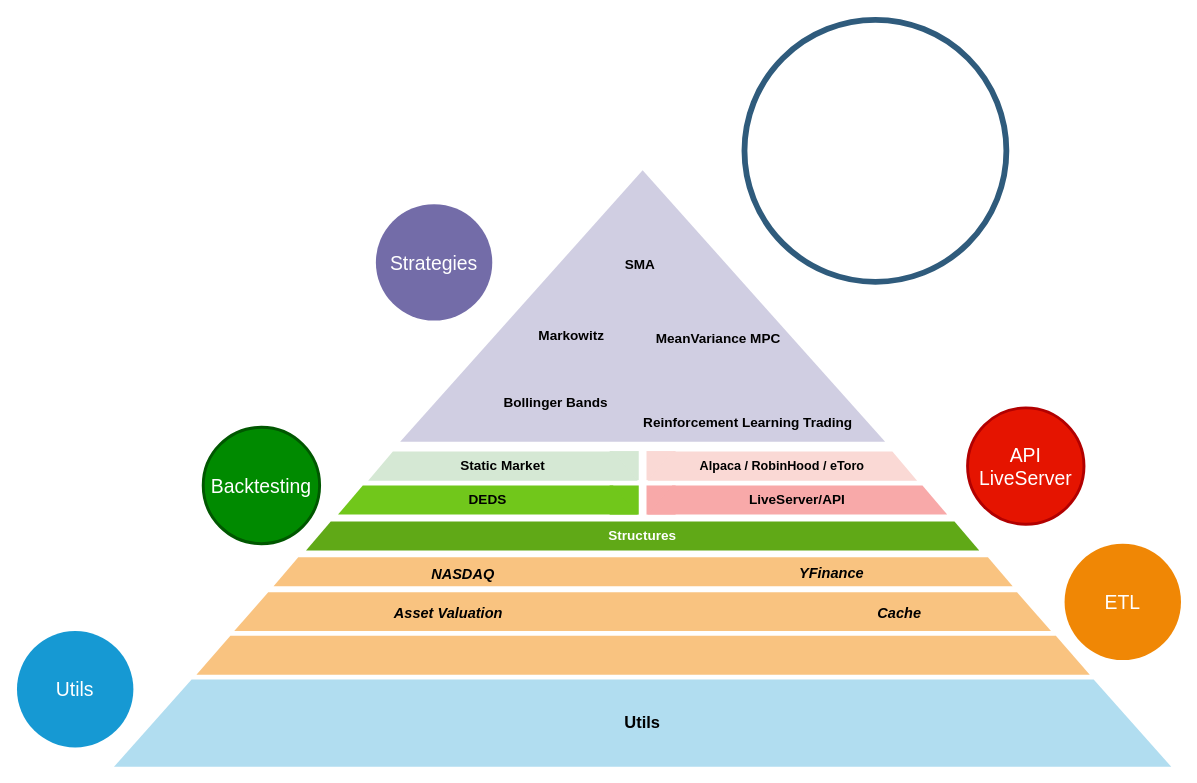
The diagram is 1197 pixels wide and 783 high, and some of its shapes have lost their labels. The centre of each missing label's shape, as x and y in pixels:
AirBorne: the point at 875,150
Transform: the point at 642,654
